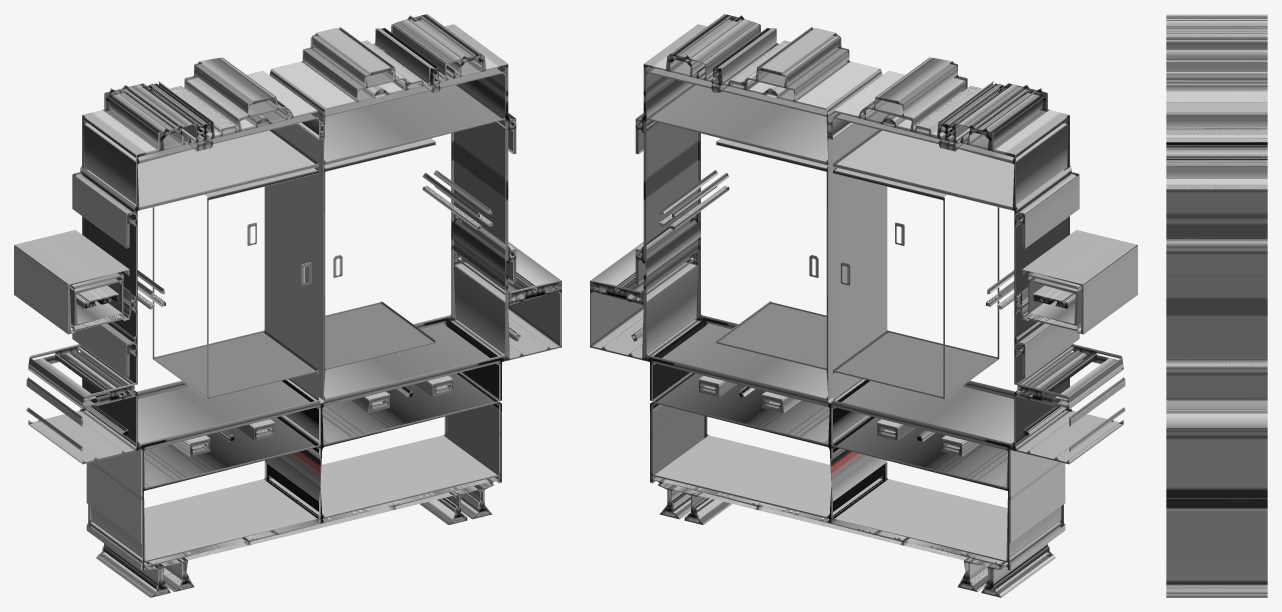
The model's file is HBVerticalCuringOven.obj.
The picture shows the model from 3 angles, left to right: view 1: azimuth 30°, elevation 25°; view 2: azimuth 150°, elevation 25°; view 3: azimuth 270°, elevation 25°; orthographic projection. The views are drawn at different scales.
Parts seen in each view (by area): view 1: Object.1, Object.21, Object.22, Object.26; view 2: Object.1, Object.21, Object.22, Object.26; view 3: Object.1, Object.22, Object.18.
Boxes of the visible parts, bbox=[...] form: Object.1: bbox=[14, 14, 561, 597]; Object.21: bbox=[152, 167, 318, 398]; Object.22: bbox=[319, 138, 435, 396]; Object.26: bbox=[70, 276, 123, 326]; Object.1: bbox=[590, 14, 1137, 597]; Object.21: bbox=[833, 167, 999, 398]; Object.22: bbox=[716, 138, 832, 396]; Object.26: bbox=[1028, 276, 1081, 326]; Object.1: bbox=[1166, 14, 1267, 597]; Object.22: bbox=[1166, 243, 1267, 366]; Object.18: bbox=[1166, 139, 1267, 140].
Bounding box in the file's own units: 78.71 × 71.88 × 14.99.
Materials: 1 (1 with a texture image).
